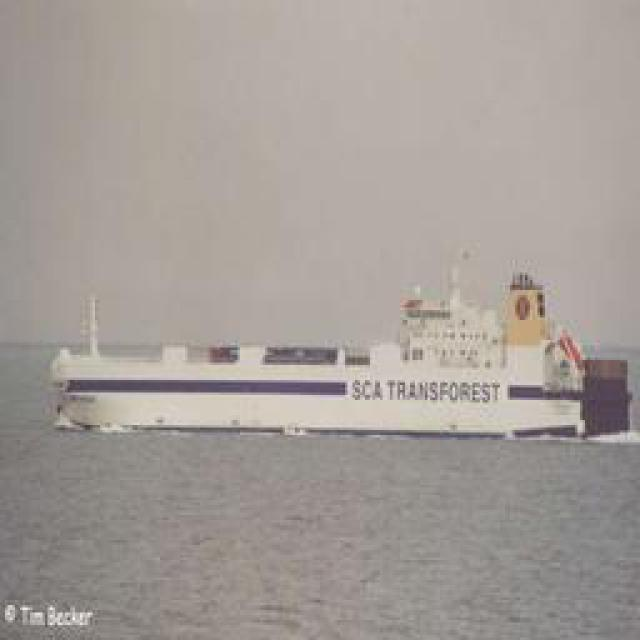Ship: (40, 306, 615, 439)
